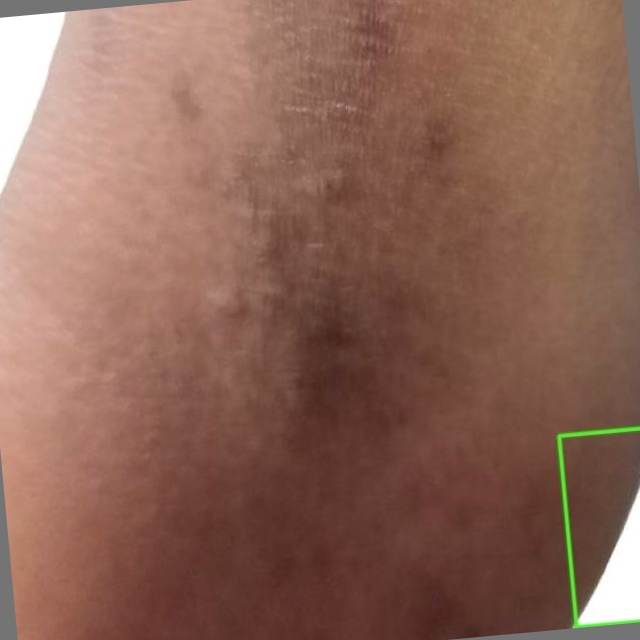Eczema: (559, 428, 639, 627)
